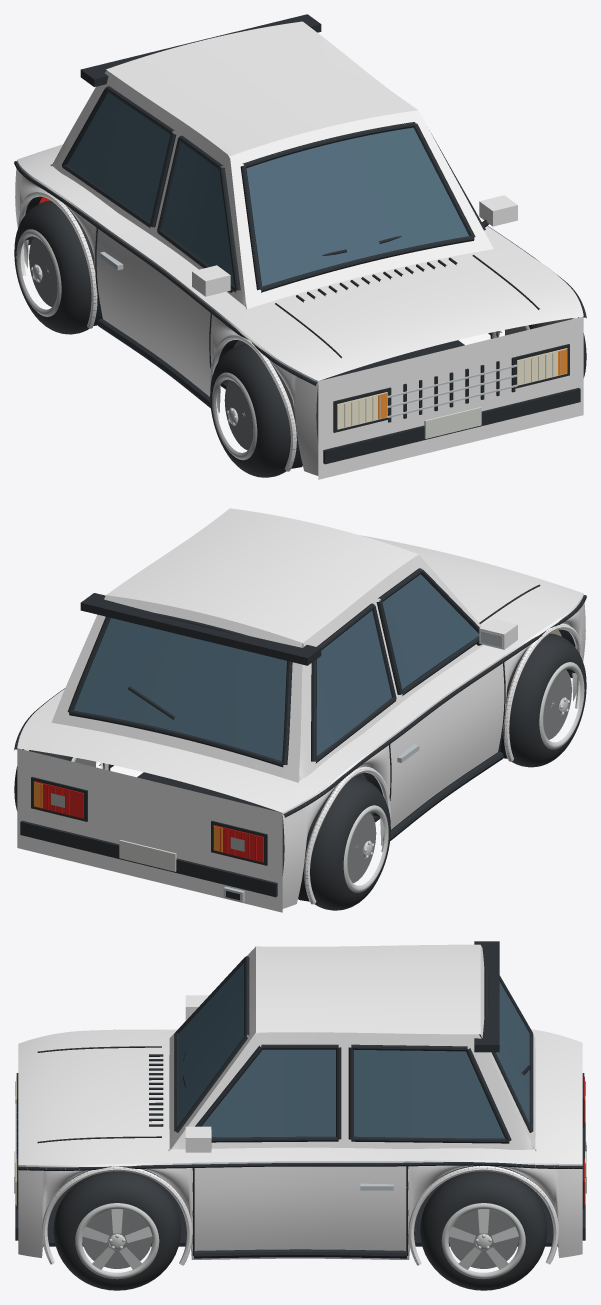
The picture shows the model from 3 angles, top to bottom: view 1: azimuth 30°, elevation 25°; view 2: azimuth 150°, elevation 25°; view 3: azimuth 270°, elevation 25°; orthographic projection. The views are drawn at different scales.
Visible parts, largest first — view 1: body, wheel_fl, wheel_rl; view 2: body, wheel_rl, wheel_fl; view 3: body, wheel_rr, wheel_fr.
Part boxes in pixels (bbox=[...]): body: bbox=[14, 14, 586, 479]; wheel_fl: bbox=[210, 344, 297, 477]; wheel_rl: bbox=[14, 200, 97, 334]; body: bbox=[14, 508, 586, 912]; wheel_rl: bbox=[303, 777, 390, 910]; wheel_fl: bbox=[503, 633, 586, 767]; body: bbox=[14, 941, 586, 1265]; wheel_rr: bbox=[420, 1171, 547, 1290]; wheel_fr: bbox=[53, 1171, 180, 1290].
Bounding box in the file's own units: 2.28 × 1.66 × 3.6.
